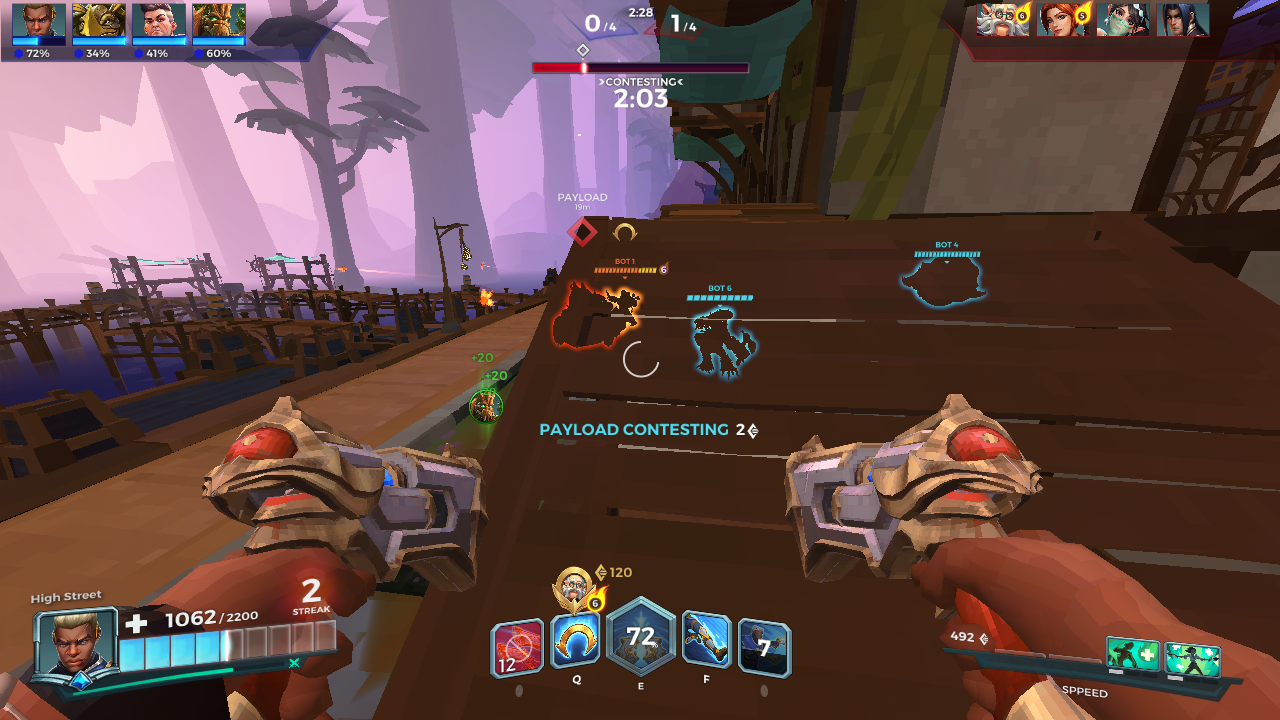model: (610, 284, 636, 329)
